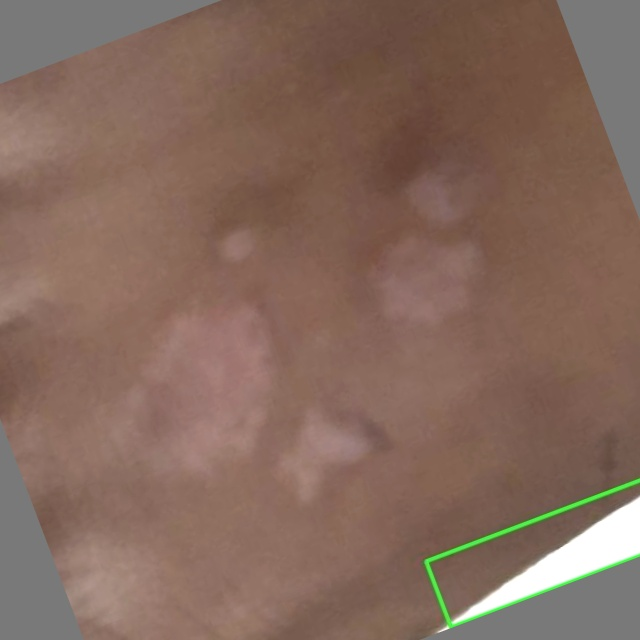Eczema: (426, 480, 639, 627)
